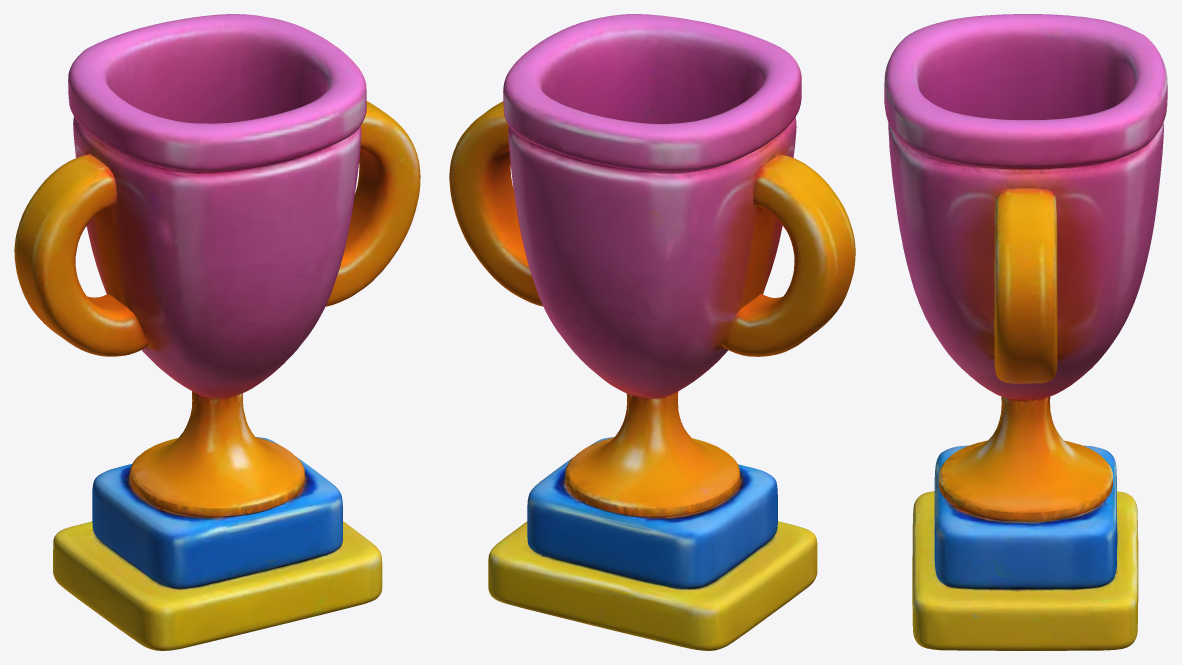
File: no_cup__main__r2__p1.glb
The picture shows the model from 3 angles, left to right: view 1: azimuth 30°, elevation 25°; view 2: azimuth 150°, elevation 25°; view 3: azimuth 270°, elevation 25°; orthographic projection.
Parts seen in each view (by area): view 1: model; view 2: model; view 3: model.
Part boxes in pixels (<box>): model: <box>14,14,420,650</box>; model: <box>449,14,855,650</box>; model: <box>884,14,1167,650</box>.
Size of the model in its own units: 1.43 by 1.84 by 0.8953.
Materials: 1 (1 with a texture image).
